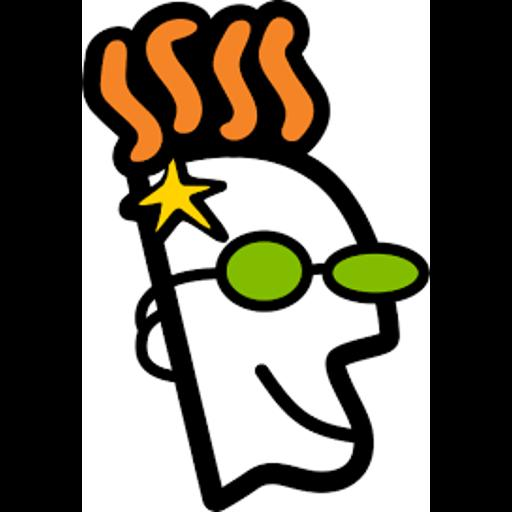GoDaddy: (82, 0, 430, 512)
